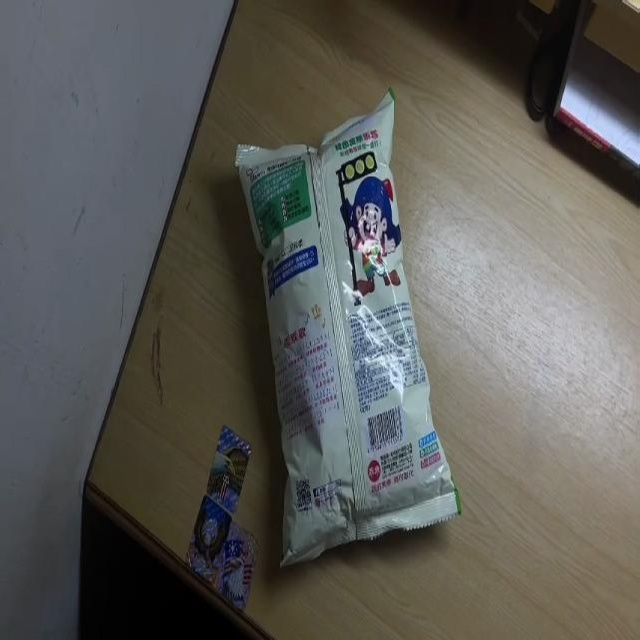Good-Luck: (236, 89, 462, 567)
